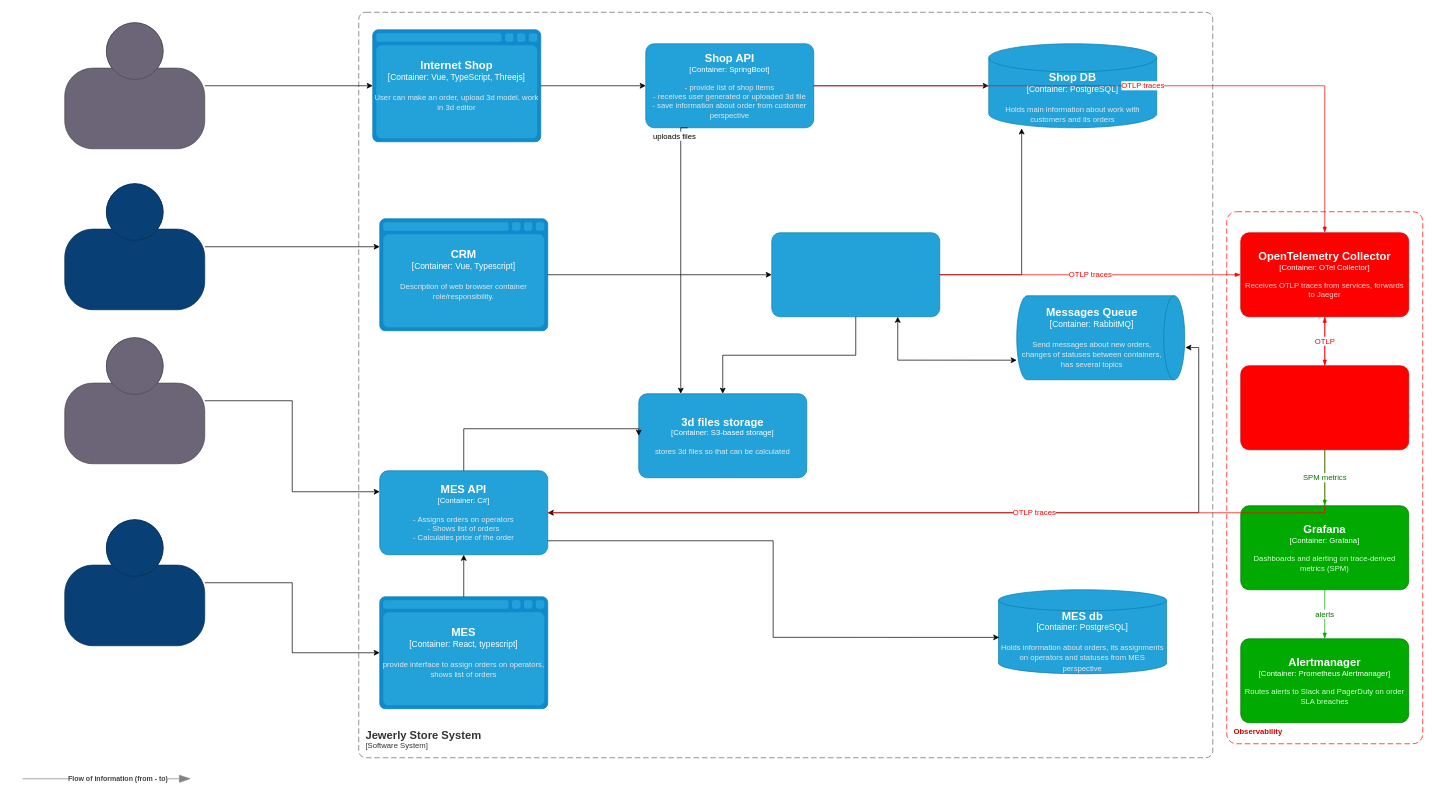
The diagram is 1435 pixels wide and 802 high, and some of its shapes have lost their labels. Each missing label, with the centre of its shape:
API user [Person] Description of external person.: pixel 134 400
CRM API [Container: SpringBoot] Description of container role/responsibility.: pixel 855 274
Customer [Person] Description of external person.: pixel 134 85
Jaeger [Container: Jaeger all-in-one] Stores and visualises distributed traces: pixel 1324 407
Operator [Person] Takes order in work, manufactures jewerly: pixel 134 582
Seller [Person] Operates with order, confirms manufacturing for the user: pixel 134 246
